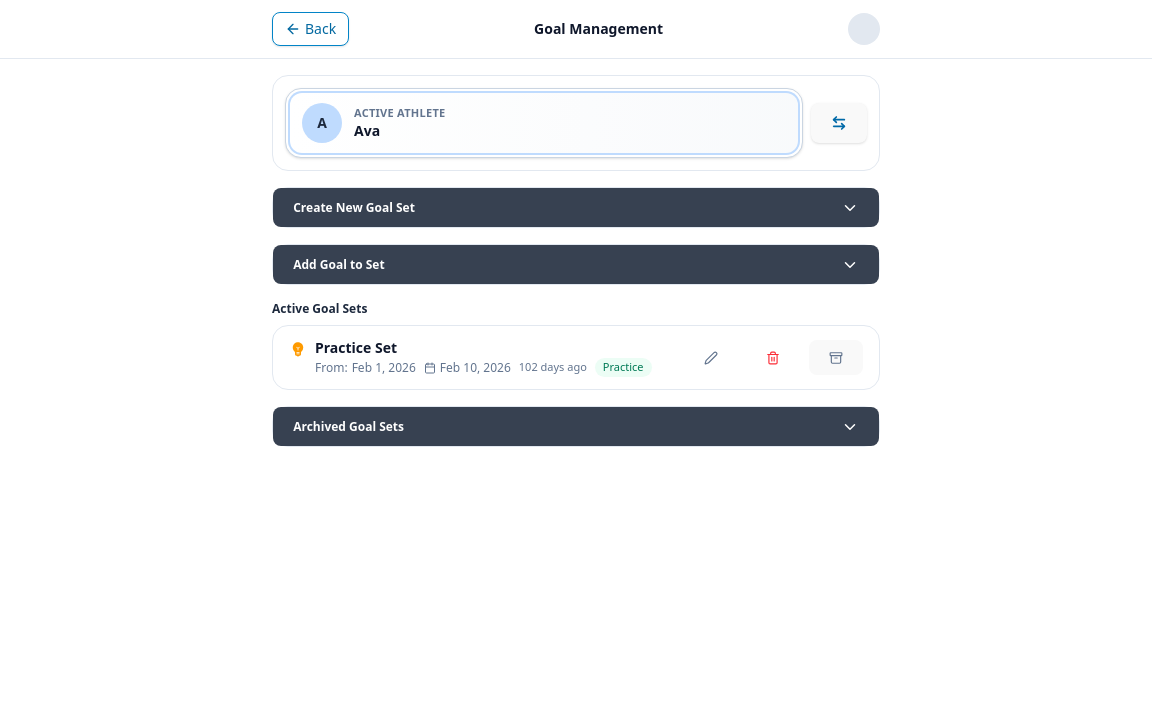
Scenario: GoalsManager Progress (Game vs Practice) › should compute and render progress for a practice goal
Expected: the text "Practice Set" is shown, top-left (315, 338), bottom-right (397, 357)
Click the button "Practice Set" at [576, 358], box top-left (273, 326), bottom-right (879, 389)
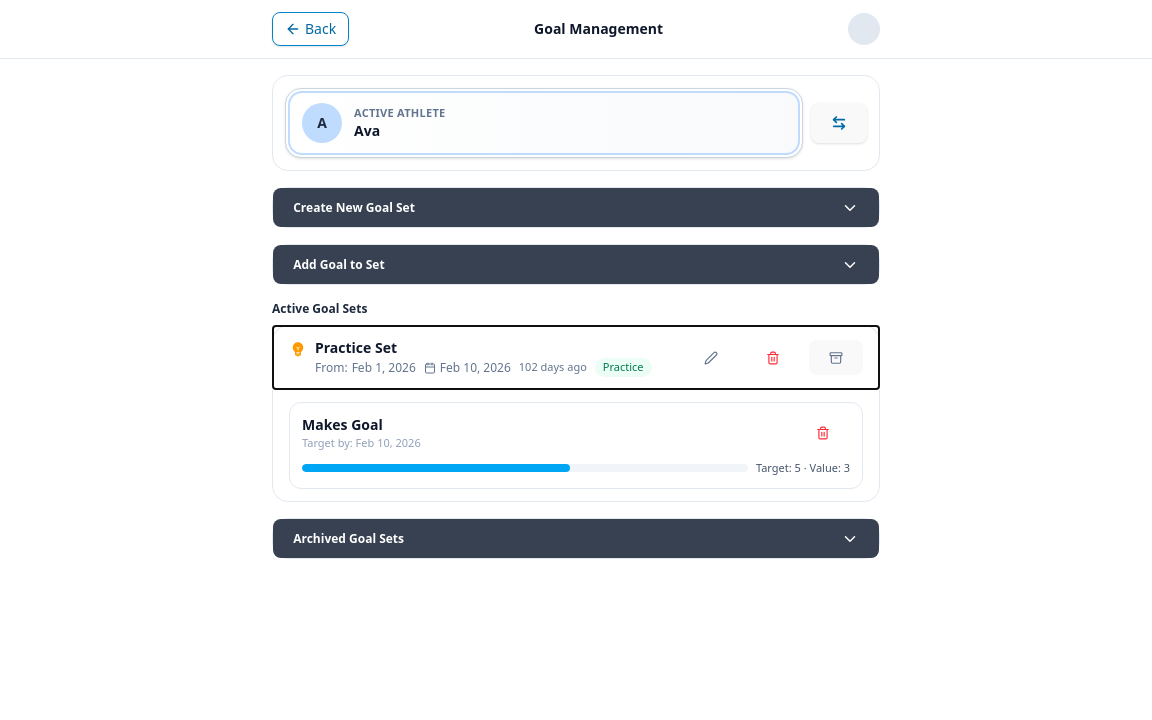
Expected: the text "Target: 5 · Value: 3" is shown, top-left (756, 460), bottom-right (850, 476)
